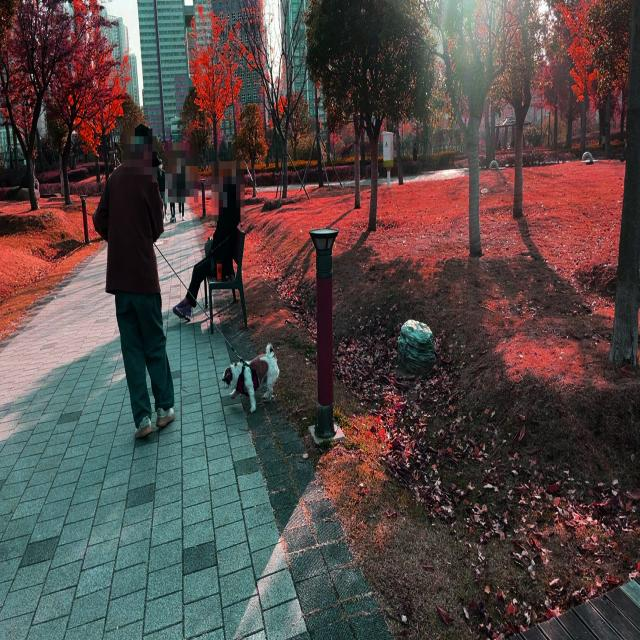Leashed_Dog: (144, 239, 280, 415)
